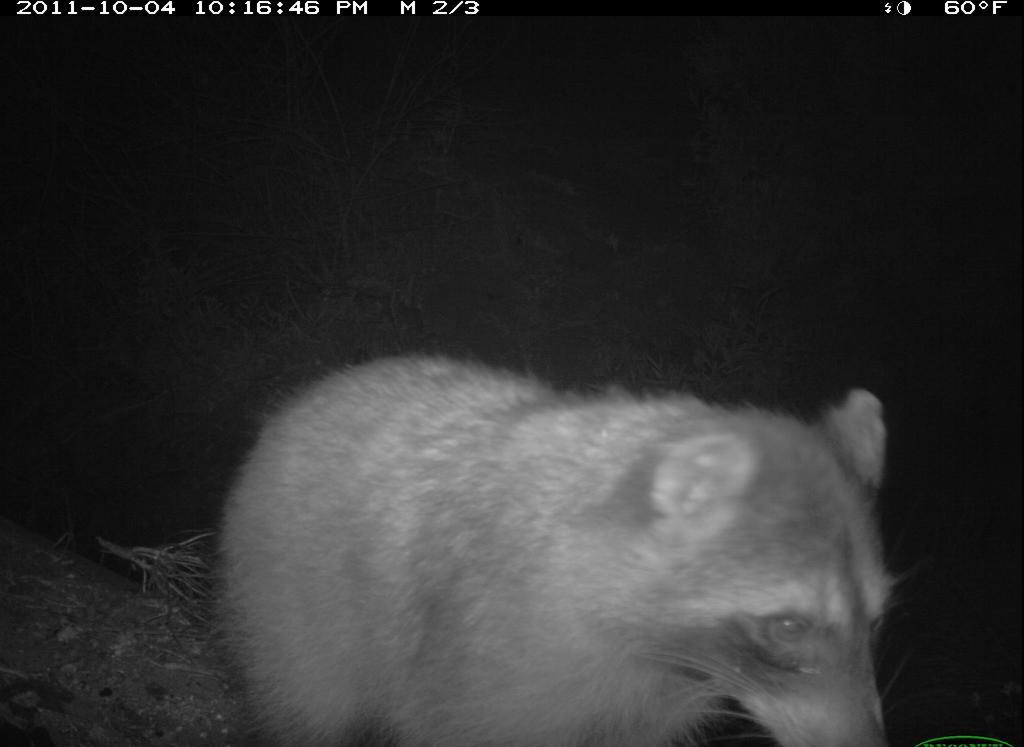raccoon: (200, 355, 912, 747)
